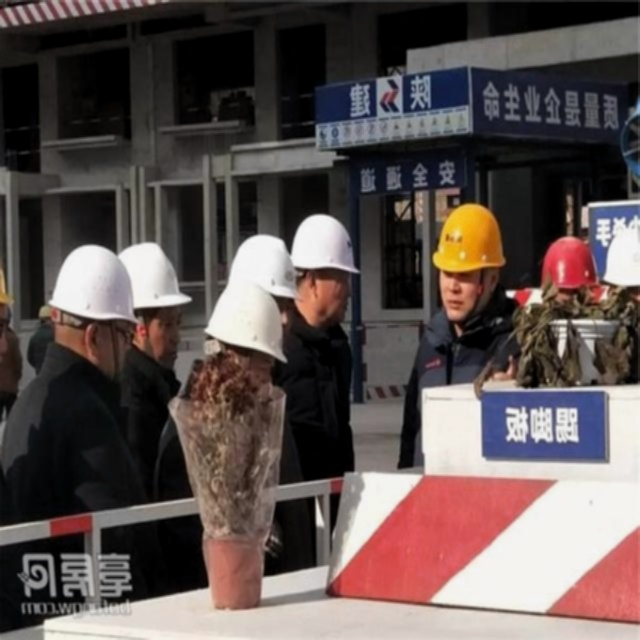Con_Casco: (431, 204, 505, 318)
